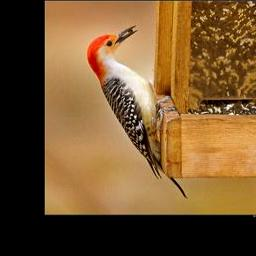Woodpecker: (86, 25, 187, 199)
